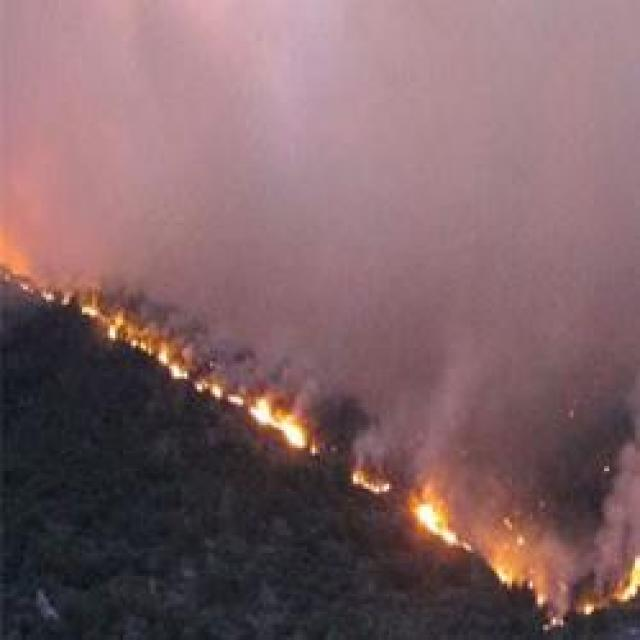fire: (252, 395, 312, 453), (416, 482, 463, 549), (151, 342, 190, 382), (615, 554, 639, 608)
smoke: (0, 178, 91, 269), (483, 515, 587, 572), (601, 430, 640, 545), (419, 385, 458, 463), (348, 431, 392, 458), (546, 580, 568, 624)
